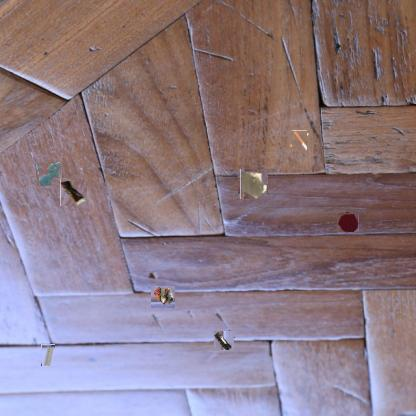dirty: (239, 170, 268, 199), (60, 178, 87, 206), (151, 286, 175, 308), (214, 330, 234, 350), (290, 132, 309, 150), (41, 344, 55, 366)
liquid: (37, 164, 61, 188), (338, 212, 358, 232)
